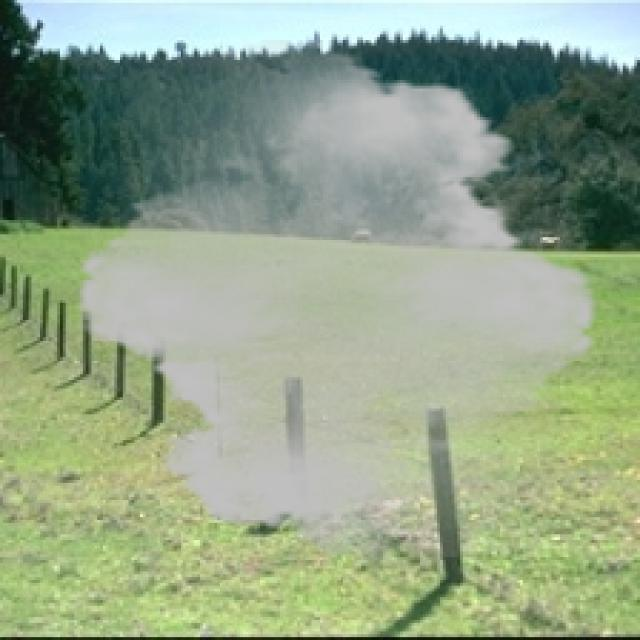Smoke: (54, 40, 620, 569)
